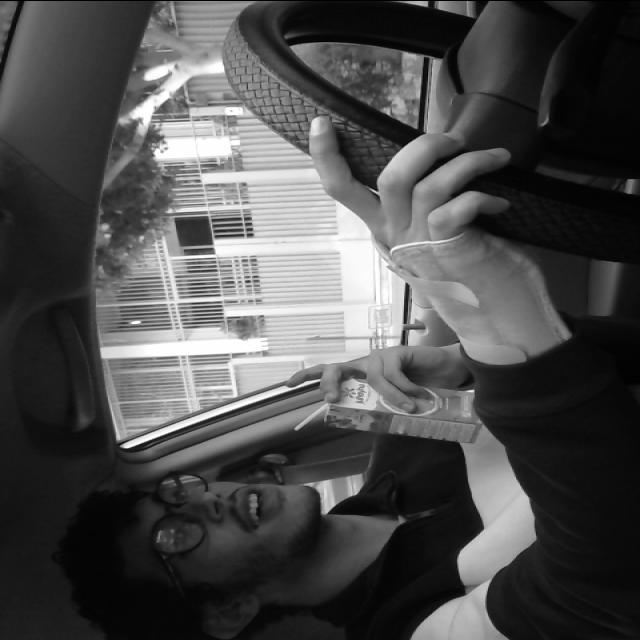drinking: (290, 362, 494, 458)
